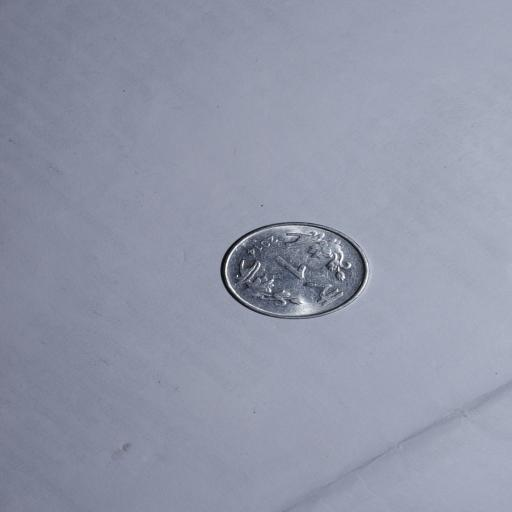rupee1: (220, 222, 367, 320)
